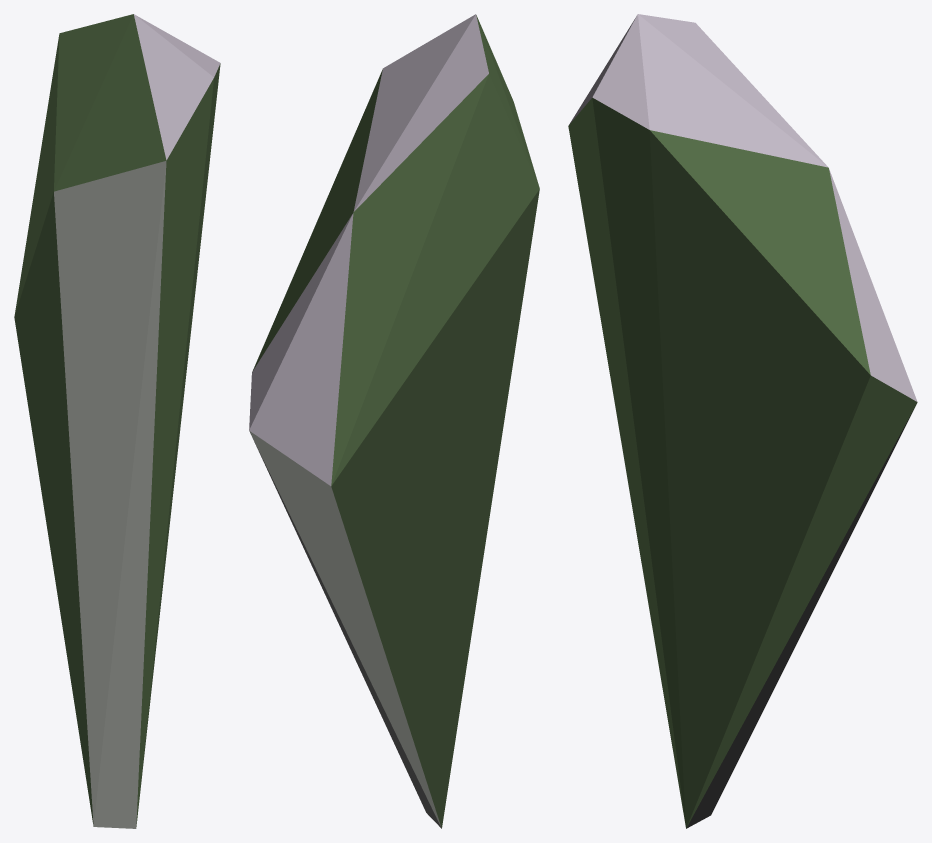
File: BirchTree_Snow_5.lod4.glb
3 renders of one model, left to right at view 1: azimuth 30°, elevation 25°; view 2: azimuth 150°, elevation 25°; view 3: azimuth 270°, elevation 25°, orthographic. The views are drawn at different scales.
Parts seen in each view (by area): view 1: BirchTree_Snow_5; view 2: BirchTree_Snow_5; view 3: BirchTree_Snow_5.
Boxes of the visible parts, x1,y1,x2,y2 form: BirchTree_Snow_5: [14, 14, 220, 828]; BirchTree_Snow_5: [249, 14, 539, 828]; BirchTree_Snow_5: [568, 14, 917, 828].
Bounding box in the file's own units: 1.23 × 5.17 × 2.04.
